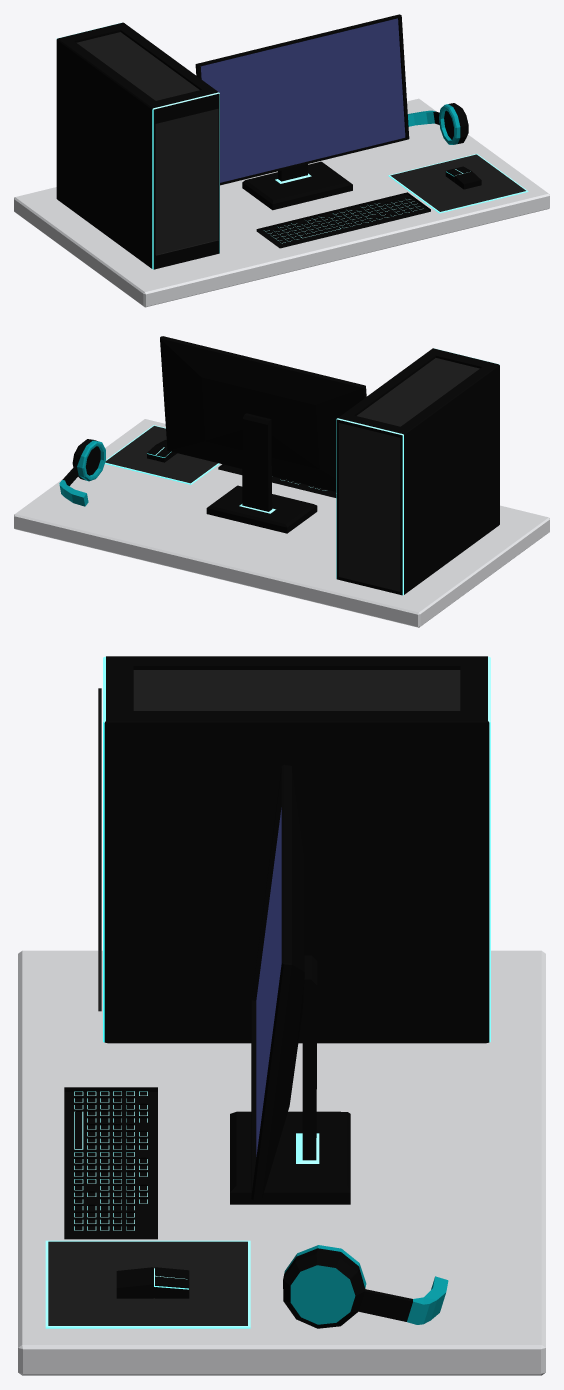
Rendered from desktop_setup.glb.
3 renders of one model, top to bottom at view 1: azimuth 30°, elevation 25°; view 2: azimuth 150°, elevation 25°; view 3: azimuth 270°, elevation 25°, orthographic. The views are drawn at different scales.
Parts seen in each view (by area): view 1: cpu, monitor, table, Plane, keyboard, headset, mouse; view 2: table, cpu, monitor, Plane, headset, keyboard, mouse; view 3: cpu, table, monitor, Plane, keyboard, headset, mouse.
Boxes of the visible parts, box(x1,y1,x2,y2) form: cpu: box(56, 22, 219, 269); monitor: box(195, 14, 409, 210); table: box(14, 98, 549, 307); Plane: box(388, 153, 528, 213); keyboard: box(256, 192, 430, 248); headset: box(407, 103, 468, 144); mouse: box(445, 166, 481, 189); table: box(14, 419, 549, 627); cpu: box(336, 348, 499, 595); monitor: box(160, 336, 366, 533); Plane: box(105, 425, 219, 484); headset: box(59, 439, 105, 506); keyboard: box(218, 464, 336, 497); mouse: box(147, 440, 177, 462); cpu: box(98, 656, 490, 1043); table: box(18, 950, 545, 1375); monitor: box(230, 764, 350, 1204); Plane: box(45, 1240, 250, 1328); keyboard: box(64, 1087, 157, 1239); headset: box(283, 1245, 448, 1328); mouse: box(116, 1267, 189, 1298).
Bounding box in the file's own units: 5.28 × 2.19 × 2.97.
